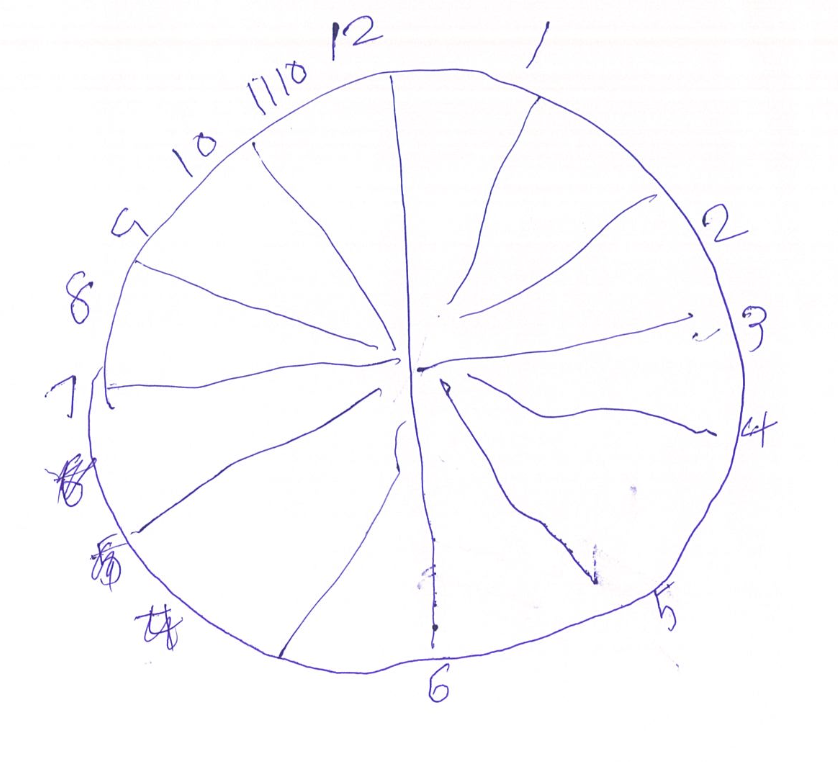1: (522, 16, 555, 71)
10: (171, 133, 221, 180)
11: (238, 74, 276, 123)
12: (316, 13, 388, 61)
2: (699, 200, 753, 248)
3: (740, 300, 770, 357)
4: (740, 411, 783, 449)
5: (652, 581, 679, 636)
6: (425, 662, 455, 706)
7: (38, 371, 81, 422)
8: (62, 267, 97, 327)
9: (109, 203, 154, 244)
contour: (79, 64, 753, 678)
